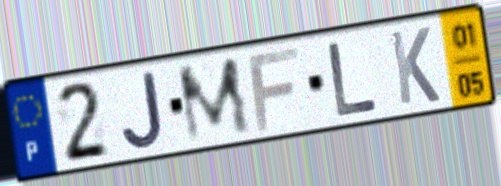2: (54, 79, 109, 166)
F: (245, 44, 302, 135)
J: (118, 68, 167, 152)
K: (386, 24, 443, 108)
L: (324, 39, 382, 120)
M: (173, 53, 255, 147)
